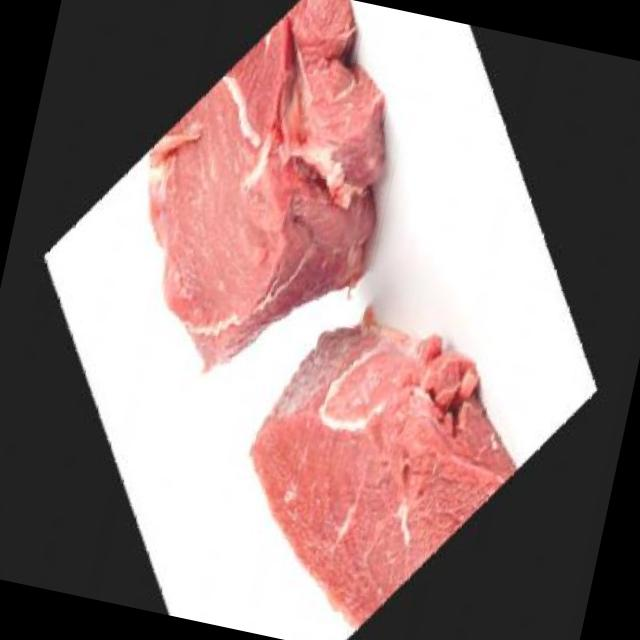beef: (68, 0, 469, 472), (187, 181, 564, 640)
